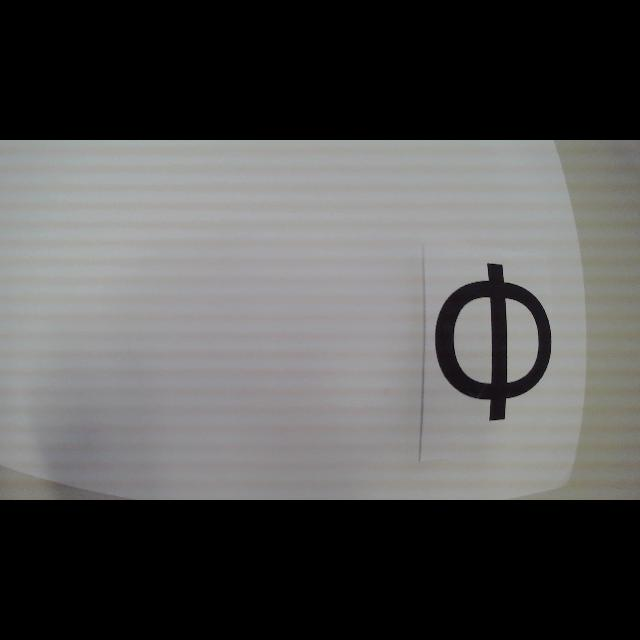PHI: (435, 262, 553, 422)
